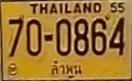0: (26, 18, 41, 55), (56, 18, 70, 55)
4: (109, 16, 124, 54)
6: (91, 18, 106, 54)
7: (8, 17, 23, 56)
8: (73, 18, 88, 55)
LPN: (49, 59, 84, 79)
